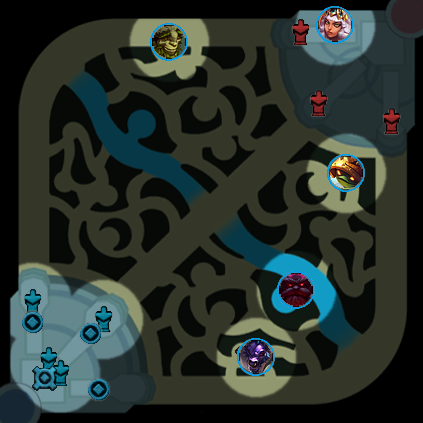Alistar: (237, 338, 275, 376)
Ivern: (150, 23, 188, 61)
Ornn: (277, 271, 315, 309)
Qiyana: (316, 6, 354, 44)
Rammus: (327, 154, 365, 192)
